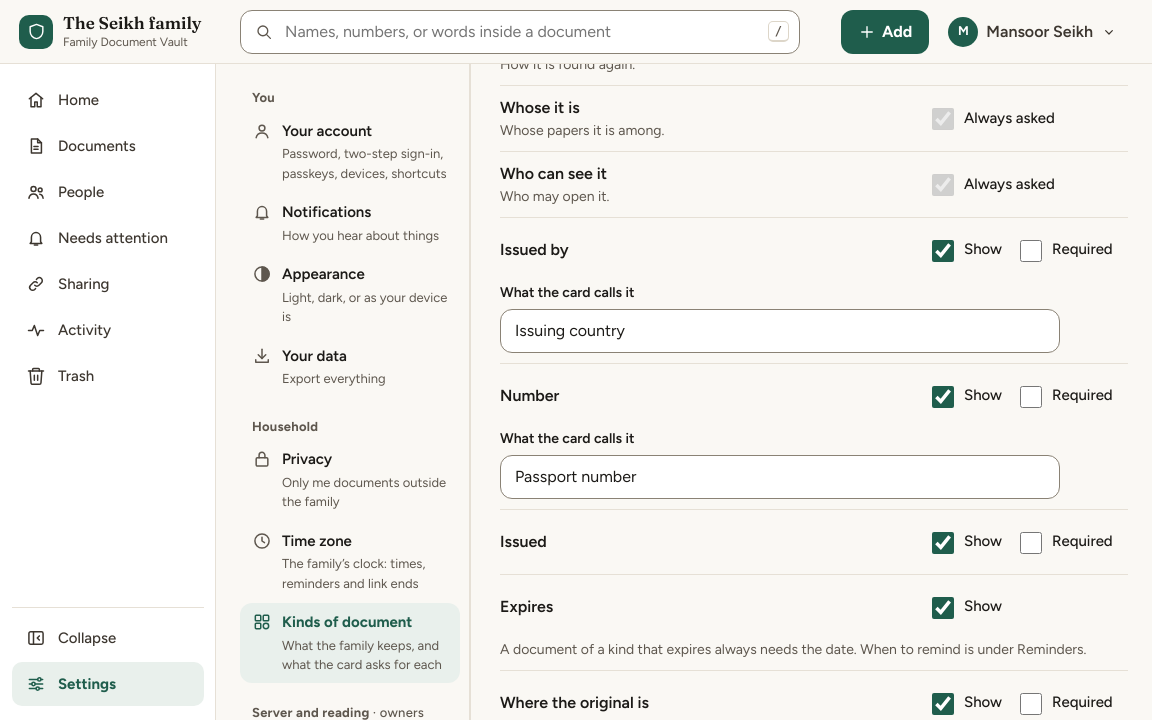
it: Settings → Kinds of document (5.12) › the warning says how many documents would need information
(page scrolled)
Expected: the text "Documents you can't see may also be affected." is not shown
Click the 2nd checkbox labelled "Required" at (1031, 397), box [1020,386,1042,408]
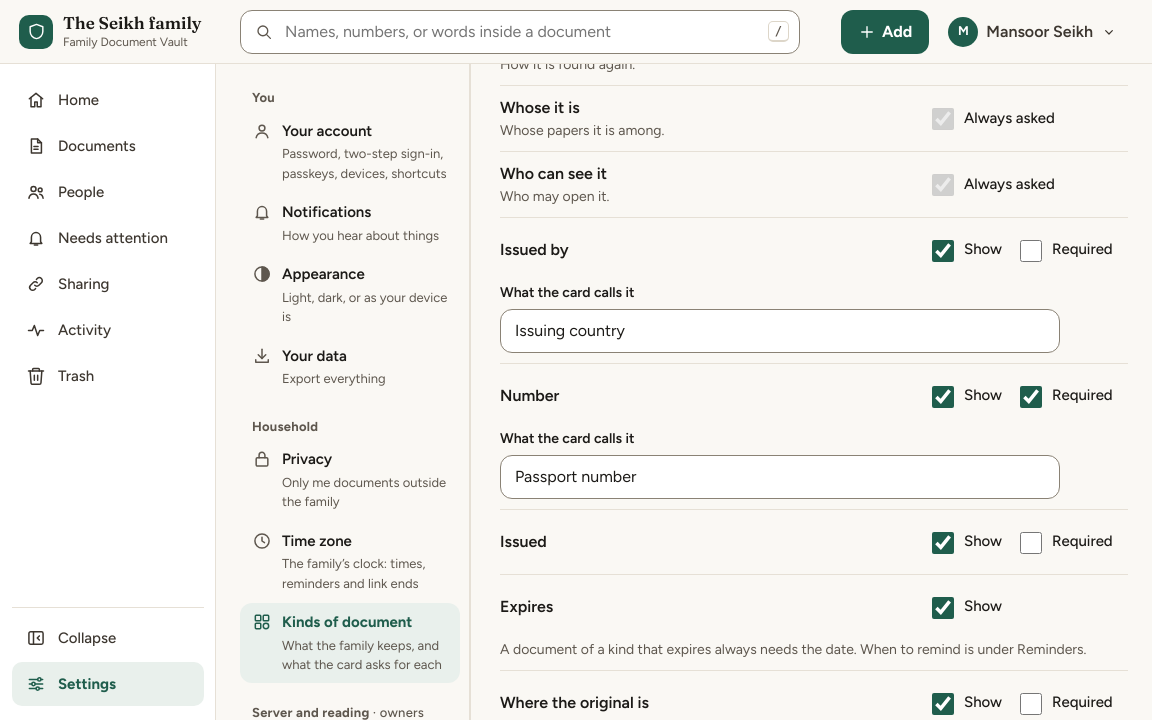
# Not required after all: the warning goes.
Click the 2nd checkbox labelled "Required" at (1031, 397), box [1020,386,1042,408]
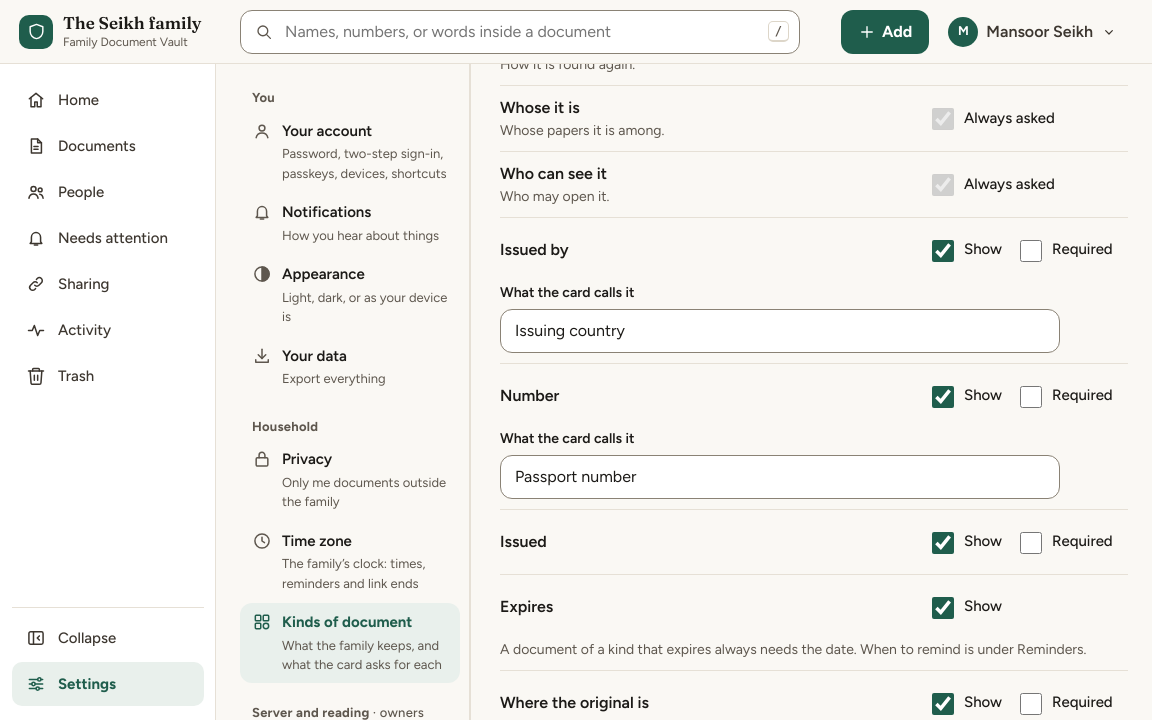
Expected: the text "Documents you can't see may also be affected." is not shown
# Stopping it expiring: its reminders stop, and the reader is told.
Click the 4th checkbox labelled "Show" at (943, 608), box [932,597,954,619]
(page scrolled)
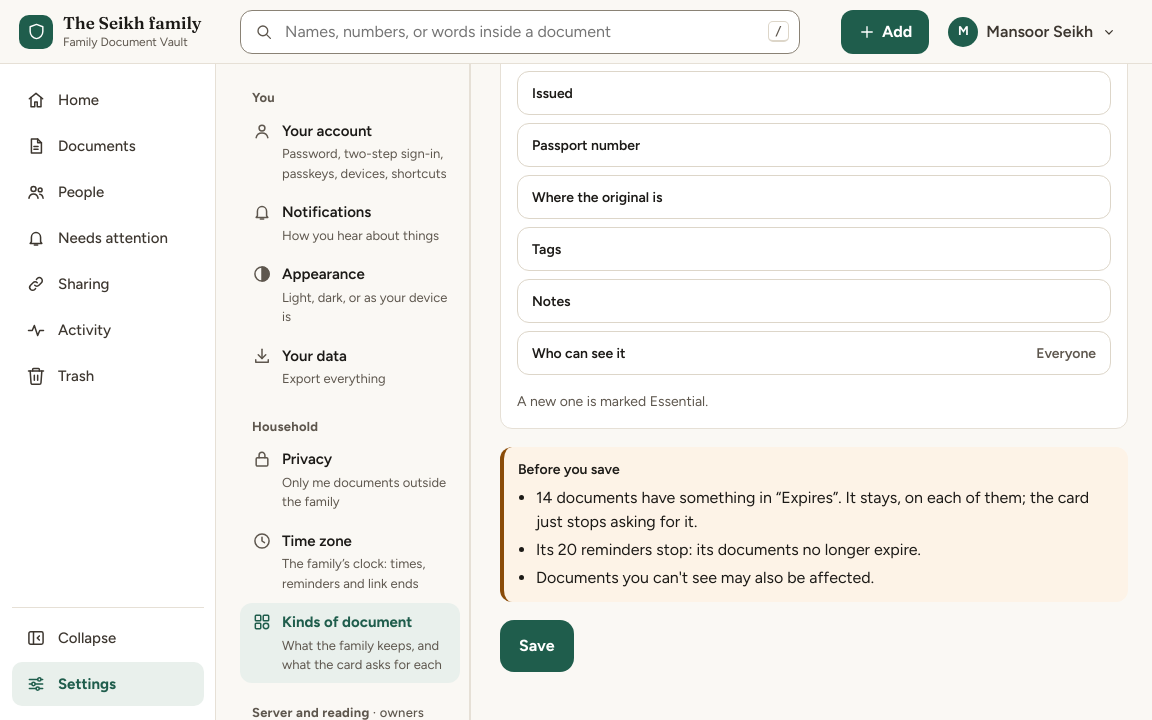
Result: the list item "Its 20 reminders stop: its documents no longer expire." is shown at [536,540,921,559]
Result: the list item "Documents you can't see may also be affected." is shown at [536,568,874,587]
